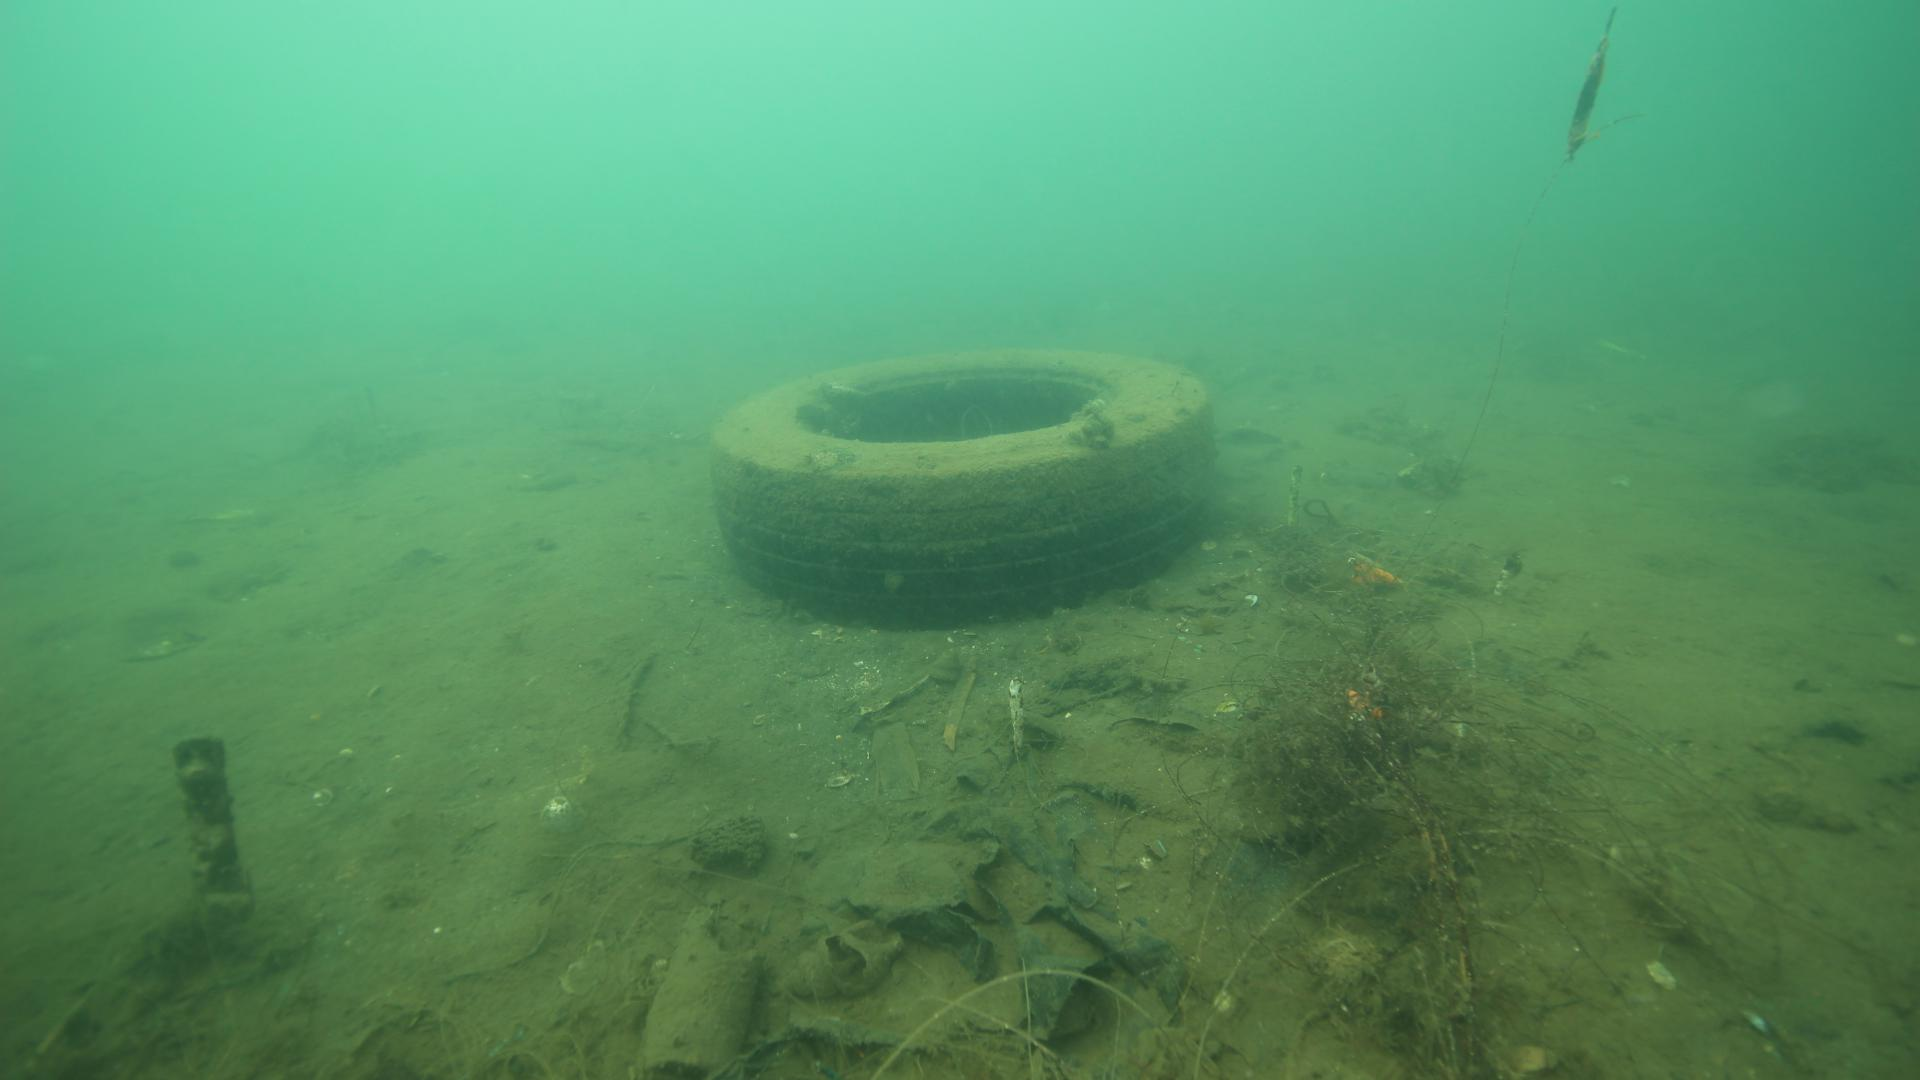tire: (713, 345, 1213, 634)
